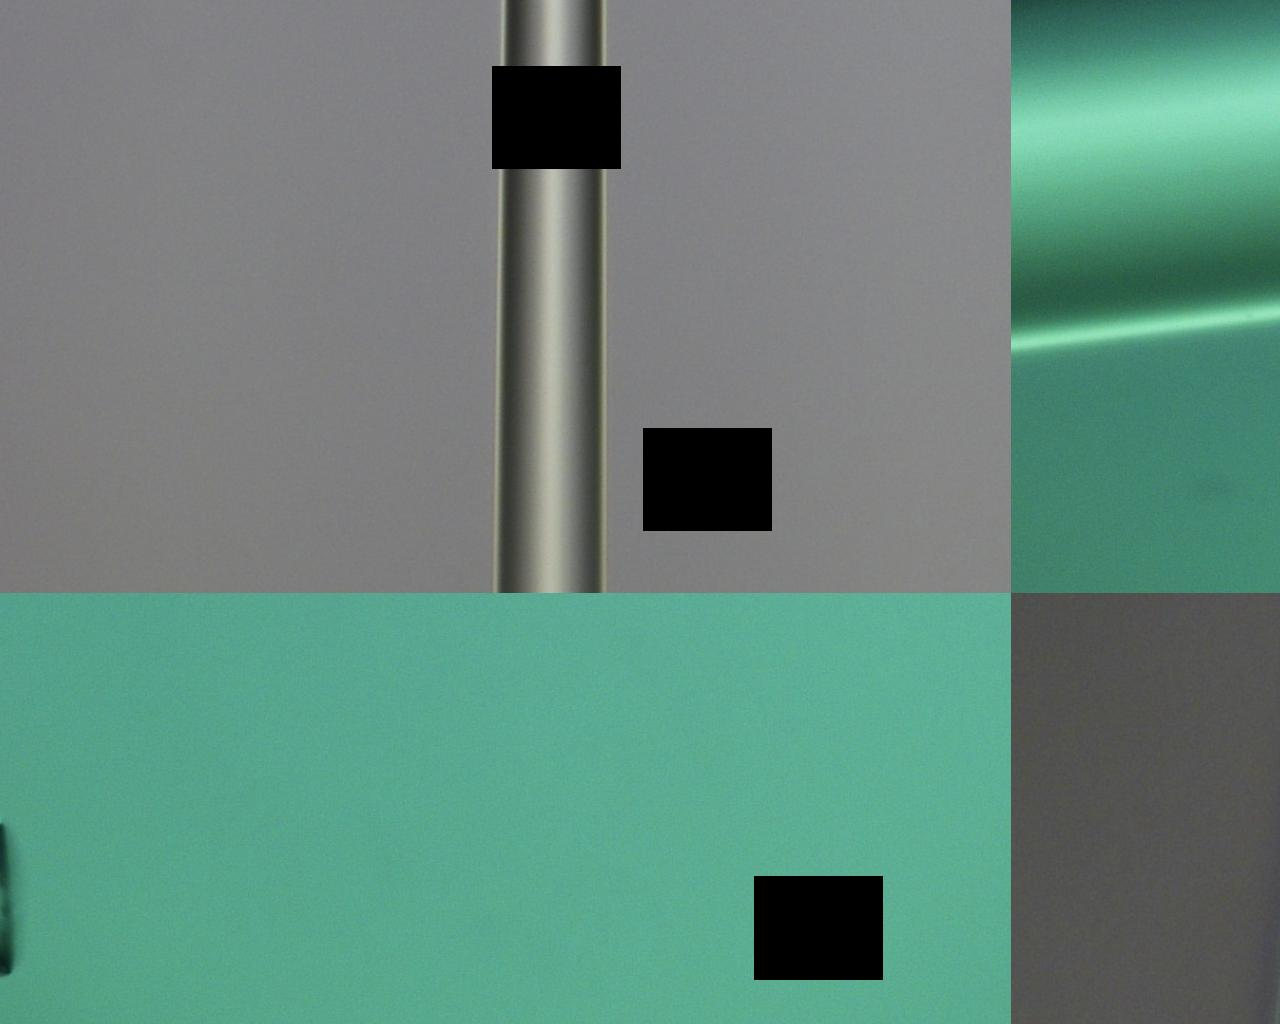fiber: (0, 732, 1279, 794)
